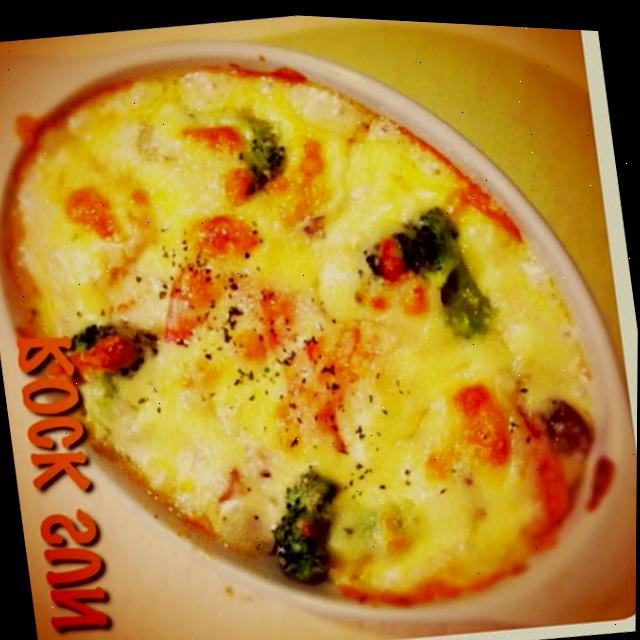米饭主食: (5, 16, 588, 640)
